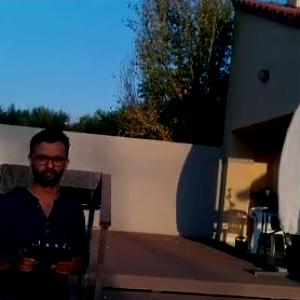follow: (0, 120, 93, 299)
